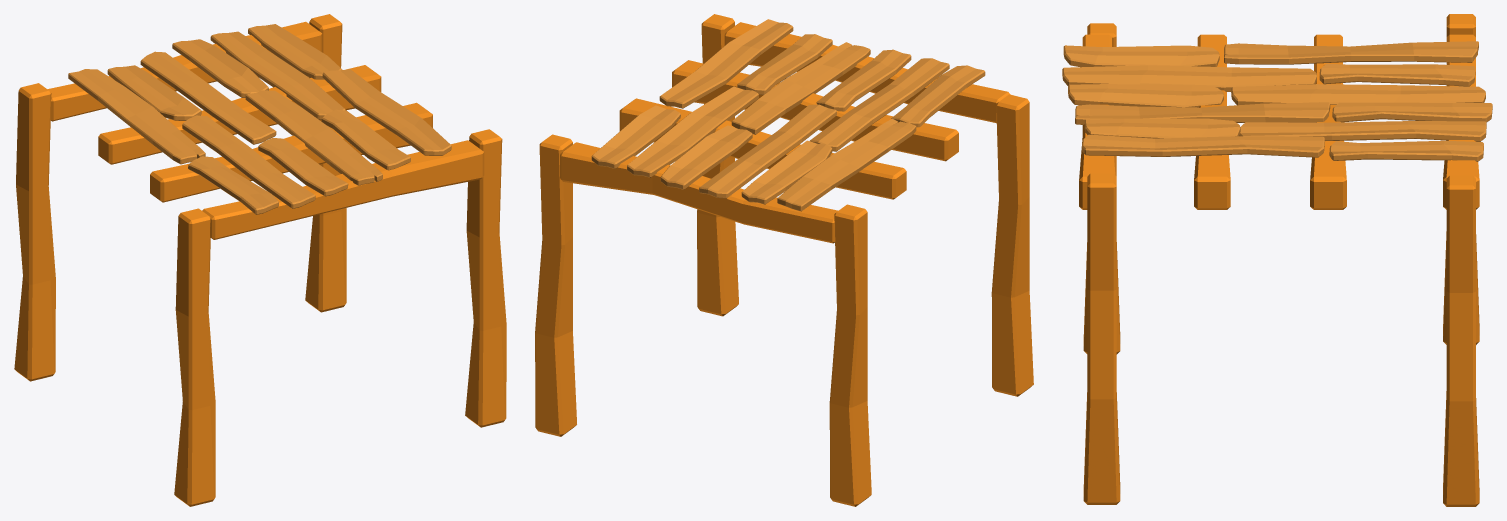
Rendered from Base_1_axel_village_.fbx.
3 renders of one model, left to right at view 1: azimuth 30°, elevation 25°; view 2: azimuth 150°, elevation 25°; view 3: azimuth 270°, elevation 25°, orthographic. The views are drawn at different scales.
Parts seen in each view (by area): view 1: polySurface3, polySurface2, polySurface18, polySurface7, polySurface1, polySurface17, polySurface20, polySurface15, polySurface14, polySurface11, polySurface9, polySurface4 (+8 smaller); view 2: polySurface2, polySurface3, polySurface1, polySurface8, polySurface18, polySurface17, polySurface20, polySurface15, polySurface14, polySurface11, polySurface9, polySurface4 (+8 smaller); view 3: polySurface18, polySurface1, polySurface17, polySurface9, polySurface15, polySurface11, polySurface14, polySurface20, polySurface10, polySurface13, polySurface6, polySurface16 (+8 smaller).
Part boxes in pixels (bbox=[...]): polySurface3: bbox=[174, 208, 215, 506]; polySurface2: bbox=[14, 83, 55, 381]; polySurface18: bbox=[465, 129, 506, 427]; polySurface7: bbox=[202, 140, 484, 239]; polySurface1: bbox=[305, 14, 346, 312]; polySurface17: bbox=[68, 69, 205, 164]; polySurface20: bbox=[245, 90, 382, 185]; polySurface15: bbox=[322, 69, 451, 155]; polySurface14: bbox=[210, 31, 345, 119]; polySurface11: bbox=[140, 51, 276, 144]; polySurface9: bbox=[182, 115, 315, 208]; polySurface4: bbox=[150, 102, 432, 202]; polySurface2: bbox=[829, 204, 871, 506]; polySurface3: bbox=[991, 94, 1033, 396]; polySurface1: bbox=[535, 134, 576, 436]; polySurface8: bbox=[560, 142, 837, 243]; polySurface18: bbox=[697, 14, 738, 316]; polySurface17: bbox=[777, 118, 916, 211]; polySurface20: bbox=[731, 42, 870, 134]; polySurface15: bbox=[659, 19, 793, 108]; polySurface14: bbox=[627, 86, 758, 177]; polySurface11: bbox=[699, 104, 836, 198]; polySurface9: bbox=[810, 58, 949, 151]; polySurface4: bbox=[672, 60, 958, 161]; polySurface18: bbox=[1083, 173, 1120, 504]; polySurface1: bbox=[1443, 175, 1479, 506]; polySurface17: bbox=[1224, 41, 1478, 64]; polySurface9: bbox=[1062, 65, 1316, 91]; polySurface15: bbox=[1082, 134, 1324, 157]; polySurface11: bbox=[1231, 84, 1485, 105]; polySurface14: bbox=[1239, 121, 1486, 141]; polySurface20: bbox=[1075, 102, 1330, 124]; polySurface10: bbox=[1068, 84, 1223, 107]; polySurface13: bbox=[1063, 45, 1219, 67]; polySurface6: bbox=[1319, 63, 1475, 86]; polySurface16: bbox=[1332, 102, 1492, 122].
Size of the model in its own units: 590 by 529 by 610.
